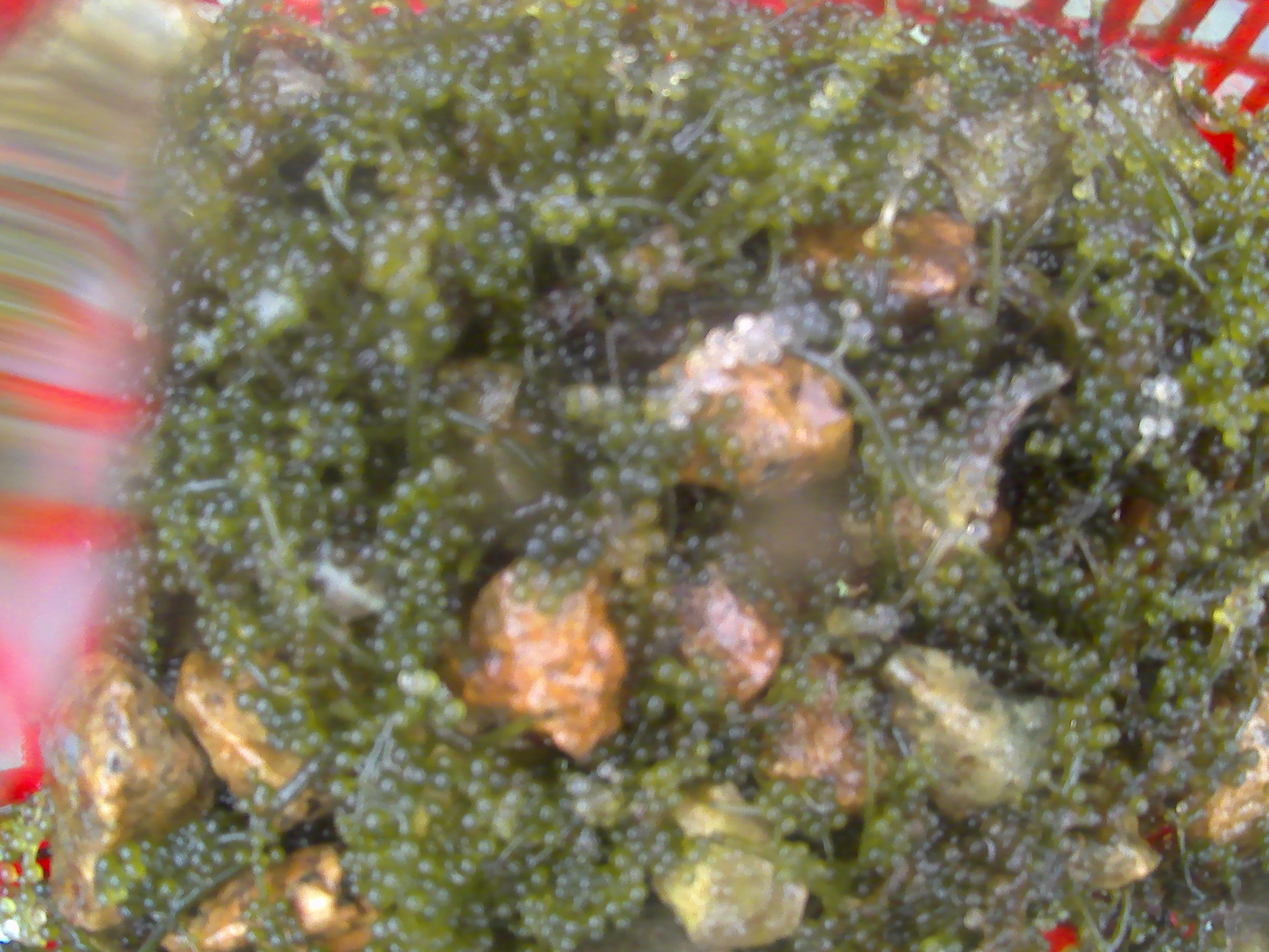Darkening: (597, 489, 622, 513), (260, 102, 282, 128), (493, 753, 513, 772), (968, 840, 987, 860), (474, 300, 493, 319), (229, 95, 247, 113), (692, 719, 709, 737), (624, 632, 640, 649), (965, 816, 980, 832)
Harvestable: (651, 654, 682, 687), (442, 696, 470, 725), (348, 188, 376, 216), (403, 887, 430, 915), (727, 178, 755, 205), (439, 616, 465, 643), (474, 792, 501, 818), (416, 852, 441, 878), (635, 499, 660, 525), (267, 661, 292, 686), (469, 753, 494, 778), (343, 440, 369, 464), (676, 667, 700, 692), (449, 523, 474, 547), (504, 245, 529, 269), (529, 864, 552, 890), (432, 885, 456, 909), (437, 749, 461, 773), (570, 205, 593, 230), (596, 206, 619, 230), (394, 482, 418, 505), (589, 464, 613, 487), (399, 838, 422, 861), (422, 554, 445, 577), (404, 695, 427, 718), (372, 887, 395, 910), (125, 859, 148, 882), (473, 273, 495, 297), (461, 811, 485, 833), (415, 619, 437, 642), (156, 546, 179, 568), (734, 138, 756, 161), (289, 437, 312, 459), (341, 400, 363, 422), (405, 765, 427, 786), (118, 841, 140, 862), (288, 405, 310, 426), (488, 771, 509, 792), (763, 804, 784, 825), (629, 883, 649, 904), (1129, 795, 1149, 816), (883, 804, 904, 824), (1093, 284, 1113, 305), (512, 285, 533, 305), (96, 856, 116, 877), (441, 545, 461, 565), (433, 771, 453, 791), (1136, 574, 1156, 594), (431, 325, 451, 345), (321, 444, 340, 465), (833, 161, 852, 182), (340, 423, 361, 442), (494, 901, 514, 920), (459, 857, 478, 877), (409, 544, 429, 563), (236, 692, 256, 711), (279, 275, 298, 294), (527, 106, 546, 125), (311, 518, 330, 537), (330, 778, 349, 797), (539, 802, 557, 822), (330, 487, 348, 506), (380, 777, 398, 796), (374, 548, 393, 566), (398, 583, 417, 601), (467, 899, 485, 917), (334, 753, 352, 771), (628, 864, 645, 883), (1072, 182, 1089, 201), (138, 638, 158, 654), (414, 573, 431, 591), (424, 838, 441, 856), (414, 593, 432, 610), (218, 610, 235, 628), (1070, 85, 1087, 102), (634, 747, 651, 764), (256, 698, 272, 716), (162, 575, 180, 591), (619, 467, 635, 484), (210, 645, 228, 660), (352, 729, 367, 747), (363, 941, 387, 952), (216, 628, 232, 644), (160, 879, 176, 895), (246, 930, 265, 943), (1077, 103, 1092, 119), (421, 877, 437, 892), (289, 708, 304, 724), (429, 536, 444, 552), (378, 338, 393, 353), (222, 666, 237, 680), (196, 617, 210, 631), (559, 797, 572, 811), (235, 644, 249, 657), (250, 835, 264, 848), (270, 848, 283, 861), (202, 633, 214, 646), (235, 851, 248, 863)
Whitening: (740, 340, 763, 364), (960, 466, 982, 490), (704, 328, 725, 352), (969, 519, 989, 540), (1139, 416, 1157, 438), (840, 300, 860, 319), (979, 494, 996, 516), (671, 411, 691, 429), (1, 864, 18, 884), (763, 341, 779, 362), (778, 323, 794, 344), (2, 919, 20, 936), (0, 896, 17, 914), (620, 46, 638, 63), (687, 393, 703, 412), (1159, 417, 1174, 437), (722, 351, 738, 369), (857, 321, 874, 337), (33, 909, 48, 926), (733, 316, 751, 330), (704, 190, 719, 206), (839, 323, 856, 337), (761, 313, 775, 330), (1141, 379, 1156, 394), (1153, 385, 1168, 400), (804, 302, 818, 316), (1165, 381, 1178, 395), (1156, 372, 1169, 385), (1258, 570, 1269, 585), (967, 524, 976, 534)
